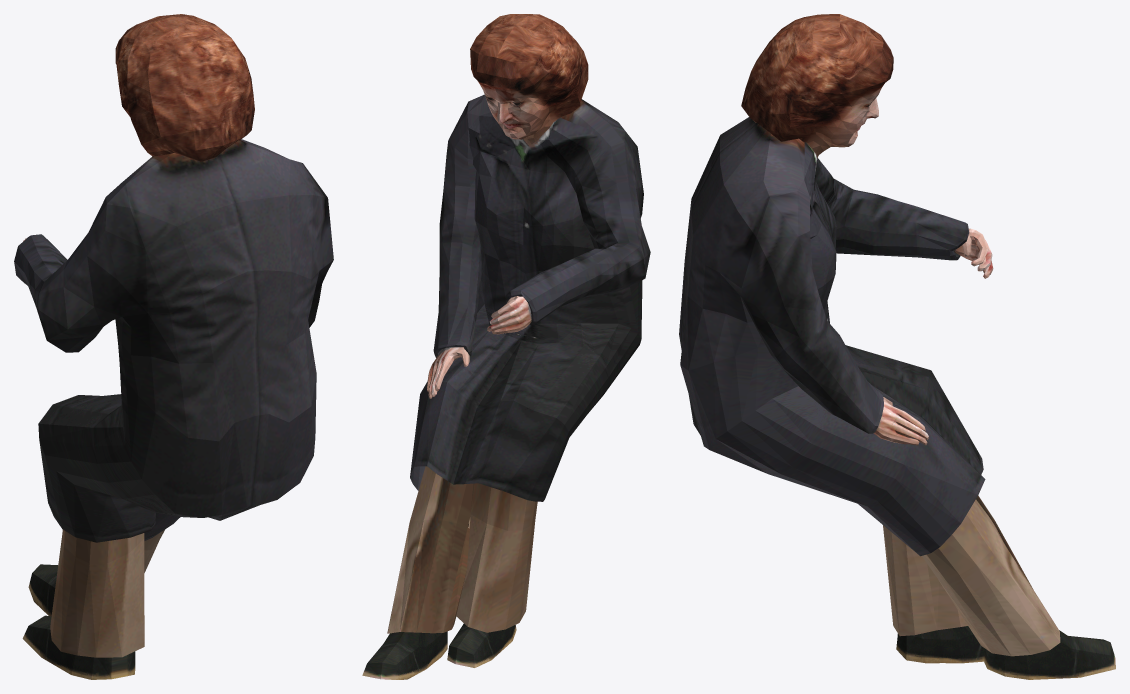
The model's file is oldwoman.fbx.
3 views of the same model, side by side, from view 1: azimuth 30°, elevation 25°; view 2: azimuth 150°, elevation 25°; view 3: azimuth 270°, elevation 25° (orthographic). The views are drawn at different scales.
Parts seen in each view (by area): view 1: oldwoman; view 2: oldwoman; view 3: oldwoman.
Boxes of the visible parts, x1,y1,x2,y2 form: oldwoman: [14, 14, 333, 679]; oldwoman: [362, 14, 650, 679]; oldwoman: [679, 14, 1115, 679].
Bounding box in the file's own units: 55.14 × 139 × 85.37.
